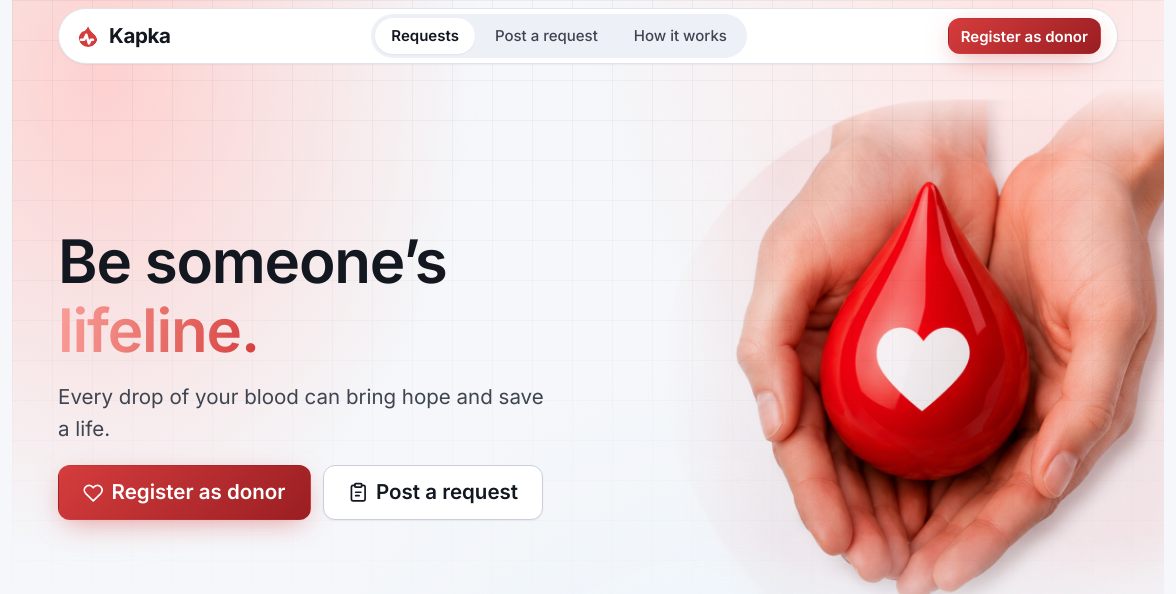
the app end to end › walks from the gate to signing in
Click the link "Register as donor" in the row of "How it works". click: click(1024, 36)
box: 948,18 -> 1101,54
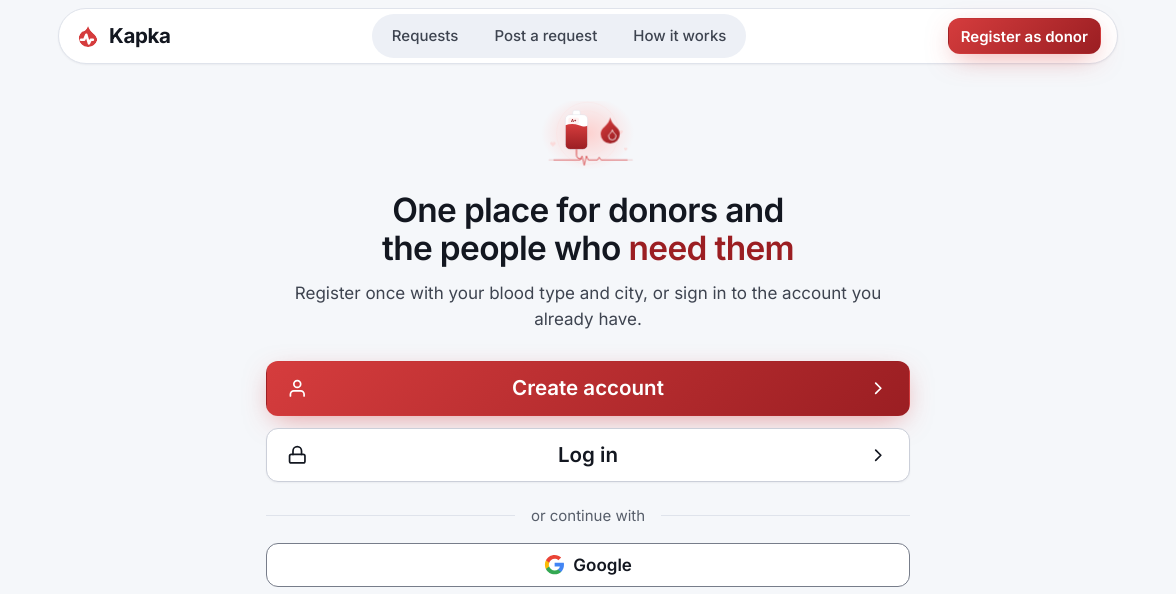
Click the link "Log in". click: click(588, 455)
box: 266,428 -> 910,482
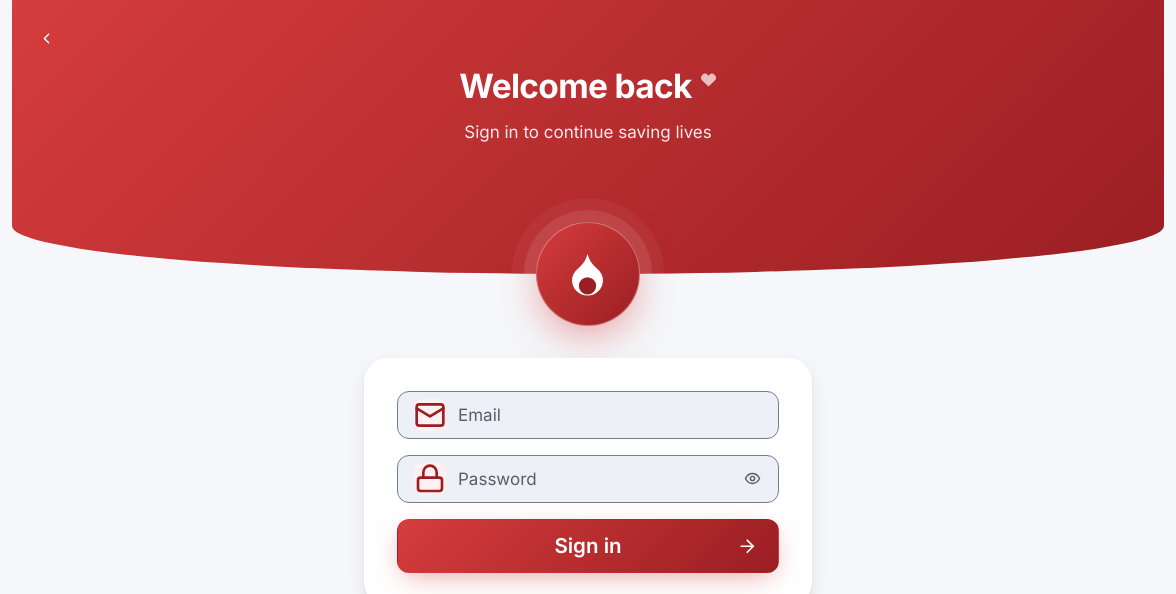
Expected: the heading "Welcome back" is shown, 459,66 -> 717,106
Expected: the field labelled "Email" is shown, 458,392 -> 762,438
Expected: the password field labelled "Password" is shown, 458,456 -> 718,502
